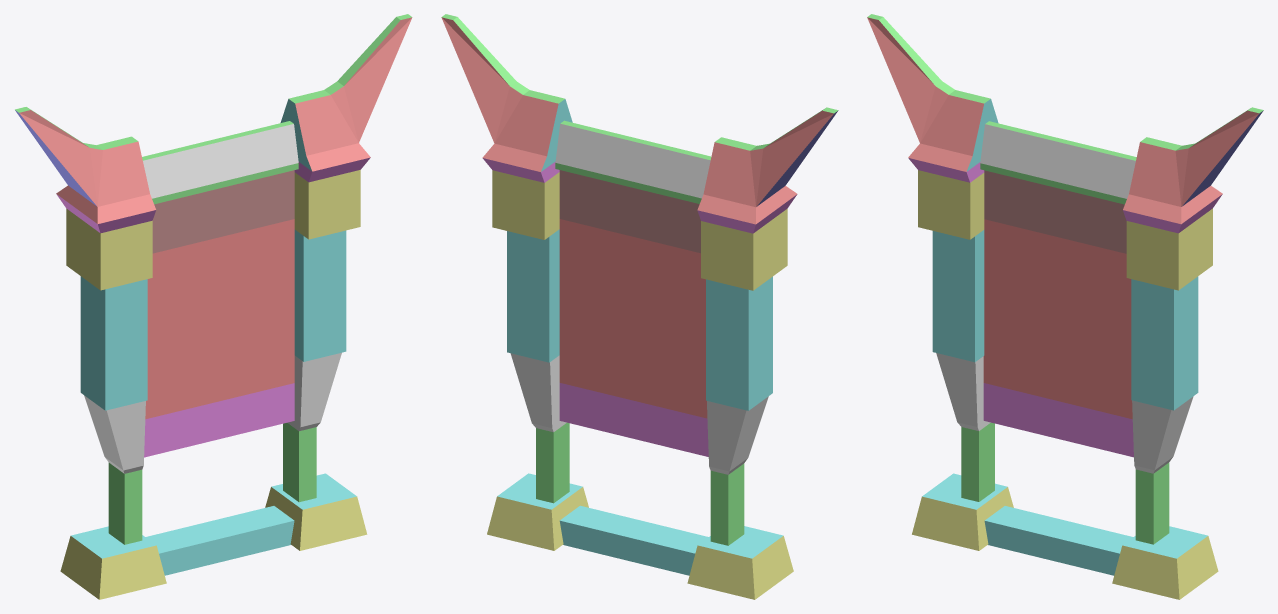
The model's file is O_DE_Board.gltf.
The picture shows the model from 3 angles, left to right: view 1: azimuth 30°, elevation 25°; view 2: azimuth 150°, elevation 25°; view 3: azimuth 330°, elevation 25°; orthographic projection.
Parts seen in each view (by area): view 1: O_DE_Board; view 2: O_DE_Board; view 3: O_DE_Board.
Part boxes in pixels (x1,y1,x2,y2): O_DE_Board: (15,14,412,599); O_DE_Board: (441,14,838,599); O_DE_Board: (867,14,1263,599).
Size of the model in its own units: 0.6665 by 0.7941 by 0.123.
